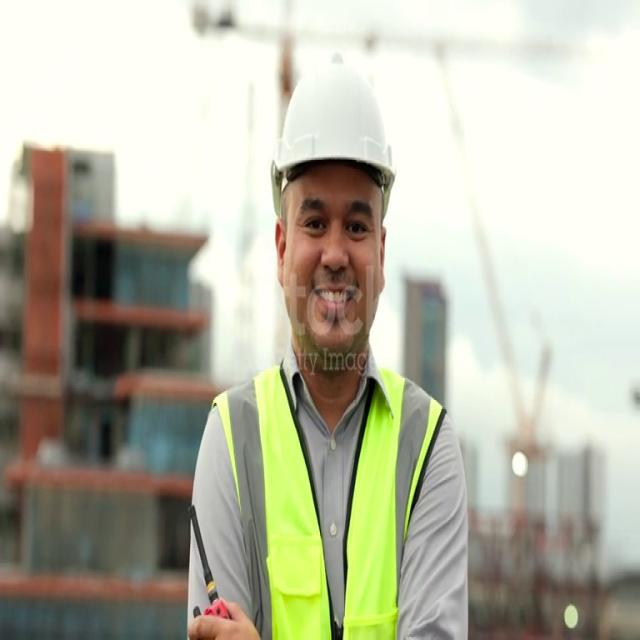capacete: (258, 41, 402, 218)
